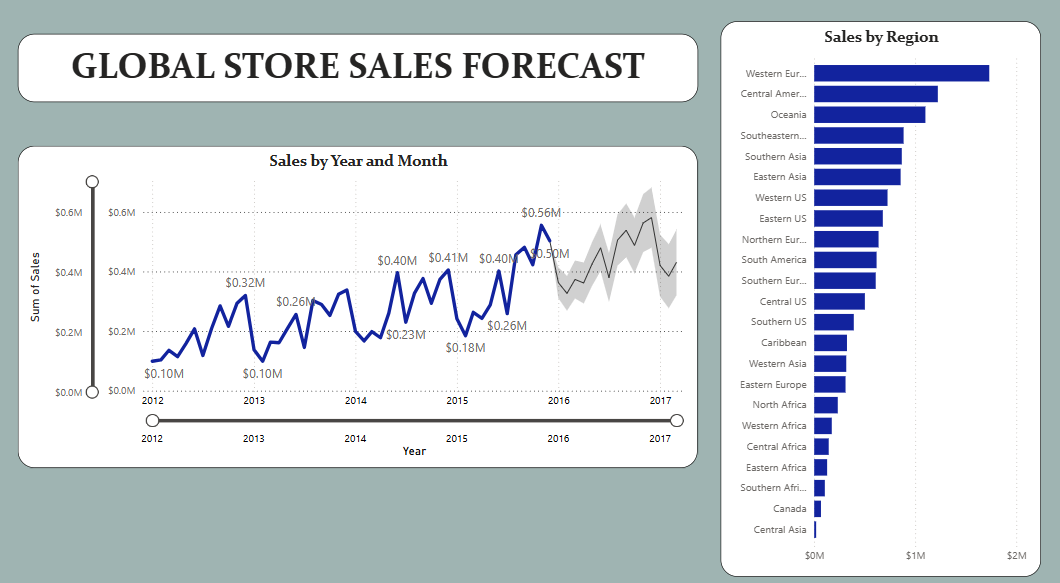

Layout of this report page (visuals, bound fields, positions):
{"tool":"powerbi","page":{"name":"Page 2","canvas":[1280,720],"ordinal":1},"visuals":[{"type":"lineChart","title":"Sales by Year and Month","fields":{"Y":["Sum(Orders.Sales)"],"Category":["Orders.Order Date.Variation.Date Hierarchy.Year","Orders.Order Date.Variation.Date Hierarchy.Month"]},"box":[28.7,187,809.6,383.3],"z":0},{"type":"clusteredBarChart","title":"Sales by Region","fields":{"Category":["Orders.Region"],"Y":["Sum(Orders.Sales)"]},"box":[865,38.3,381.7,661.7],"z":1000},{"type":"textbox","box":[28.5,52.5,810,81.7],"z":2000}]}

Visuals, with their boxes in screenshot pixels (x1, y1, x2, y2), scaled from the page's 1280x720 canvas onto the 1060x583 screenshot:
"Sales by Year and Month" lineChart: {"x1": 24, "y1": 151, "x2": 694, "y2": 462}
"Sales by Region" clusteredBarChart: {"x1": 716, "y1": 31, "x2": 1032, "y2": 567}
textbox: {"x1": 24, "y1": 43, "x2": 694, "y2": 109}
